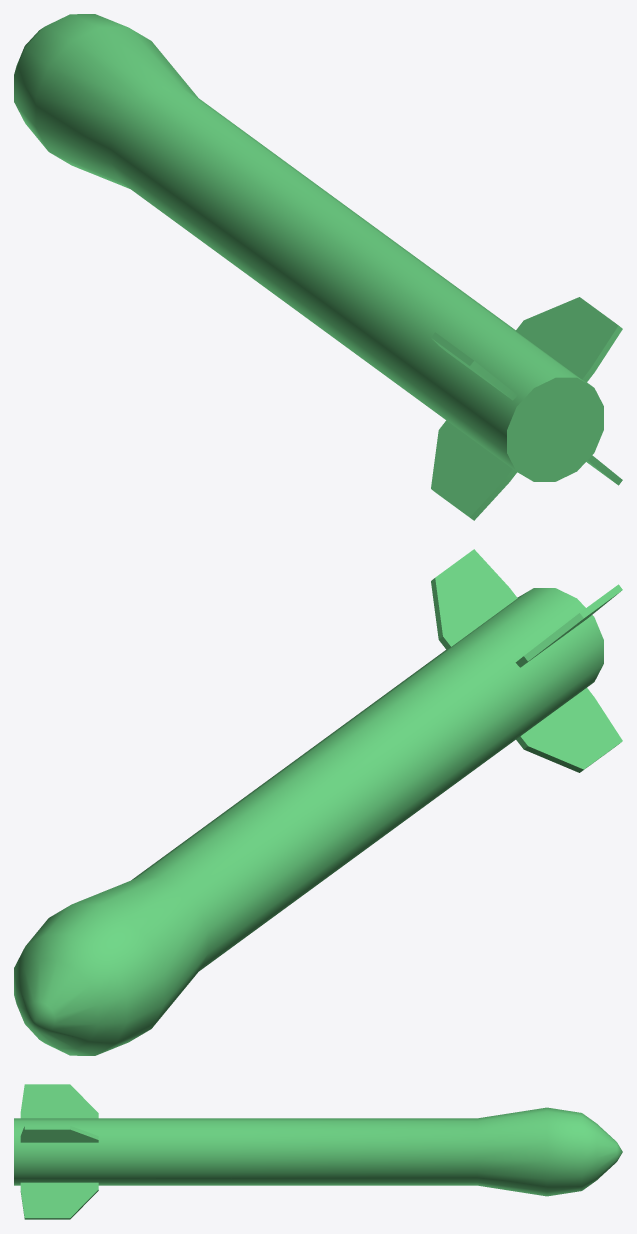
The model's file is missile.dae.
3 views of the same model, one above another, from view 1: azimuth 30°, elevation 25°; view 2: azimuth 150°, elevation 25°; view 3: azimuth 270°, elevation 25° (orthographic). The views are drawn at different scales.
Visible parts, largest first — view 1: missile; view 2: missile; view 3: missile.
Boxes of the visible parts, box(x1,y1,x2,y2) form: missile: box(14, 14, 622, 520); missile: box(14, 549, 622, 1055); missile: box(14, 1084, 622, 1219).
Size of what is drawn, in the model's own units: 0.3907 by 2.3 by 0.3907.
